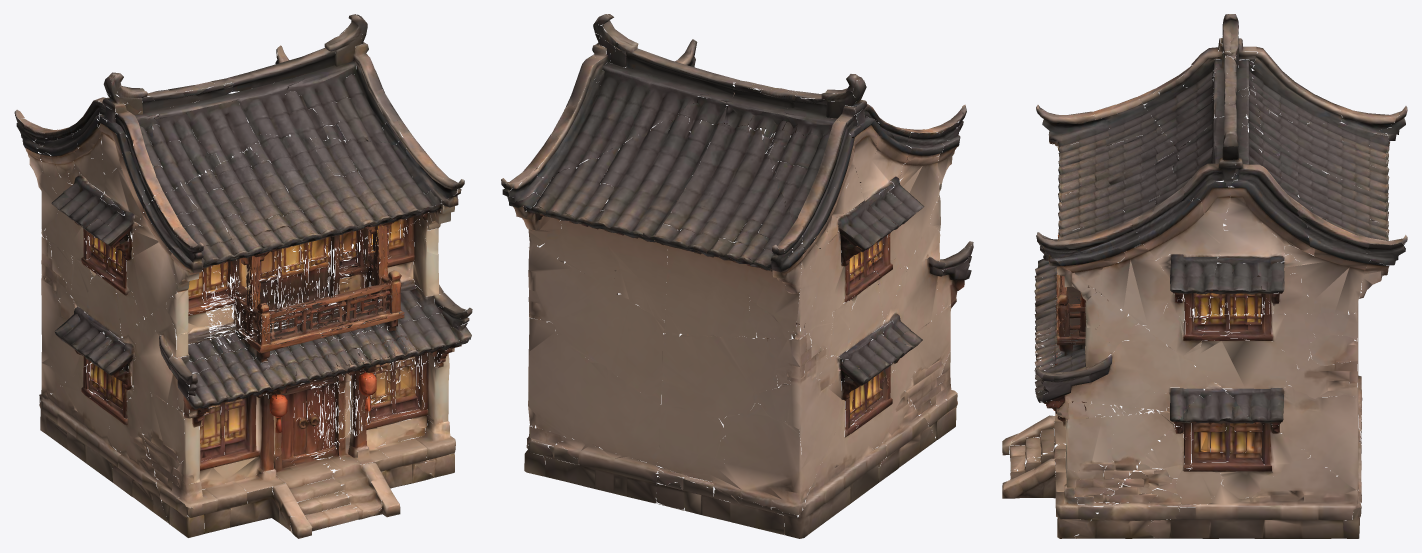
Rendered from house_a_40k.glb.
3 renders of one model, left to right at view 1: azimuth 30°, elevation 25°; view 2: azimuth 150°, elevation 25°; view 3: azimuth 270°, elevation 25°, orthographic. The views are drawn at different scales.
Parts seen in each view (by area): view 1: tripo_node_040720c3-5b58-4182-ba61-9ae558e5c5ab; view 2: tripo_node_040720c3-5b58-4182-ba61-9ae558e5c5ab; view 3: tripo_node_040720c3-5b58-4182-ba61-9ae558e5c5ab.
Part boxes in pixels (<box>): tripo_node_040720c3-5b58-4182-ba61-9ae558e5c5ab: <box>14,14,472,538</box>; tripo_node_040720c3-5b58-4182-ba61-9ae558e5c5ab: <box>501,14,973,538</box>; tripo_node_040720c3-5b58-4182-ba61-9ae558e5c5ab: <box>1002,14,1407,538</box>.
Size of the model in its own units: 0.8209 by 0.979 by 0.8969.
1 material, 1 textured.
